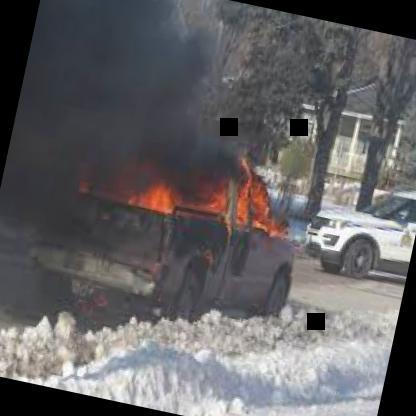fire: (0, 0, 349, 260)
